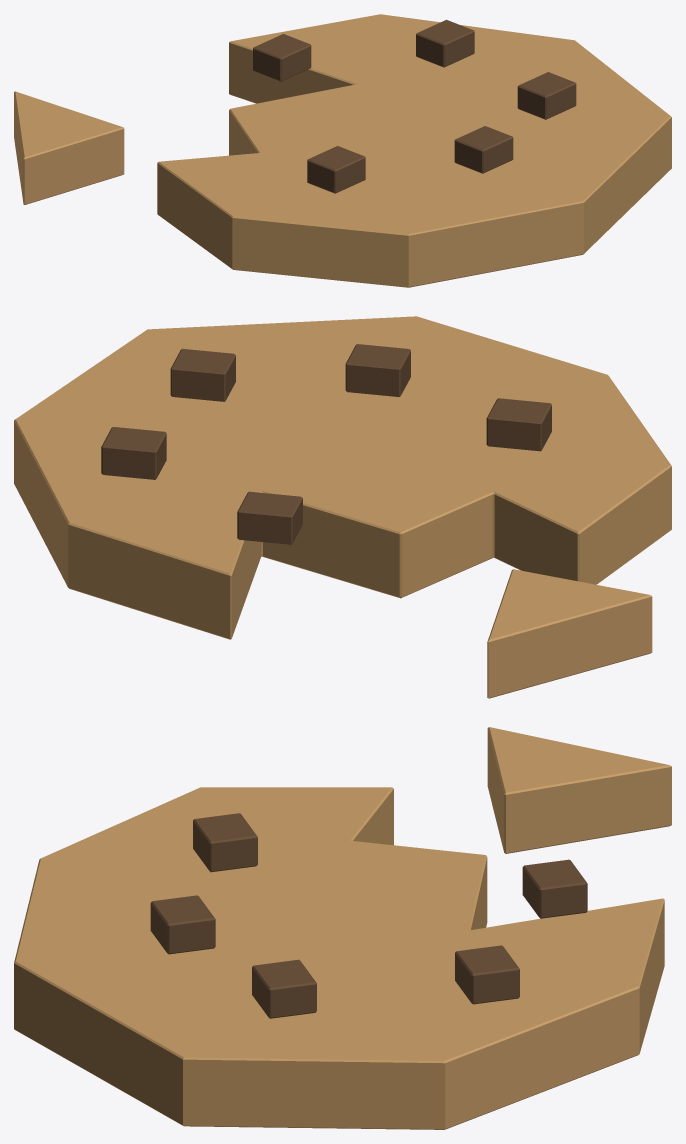
File: b16_broken_chocolate_chip_cookie.glb
3 renders of one model, top to bottom at view 1: azimuth 30°, elevation 25°; view 2: azimuth 150°, elevation 25°; view 3: azimuth 270°, elevation 25°, orthographic. The views are drawn at different scales.
Visible parts, largest first — view 1: b16_broken_chocolate_chip_cookie; view 2: b16_broken_chocolate_chip_cookie; view 3: b16_broken_chocolate_chip_cookie.
Boxes of the visible parts, <box> form: b16_broken_chocolate_chip_cookie: <box>14,14,671,287</box>; b16_broken_chocolate_chip_cookie: <box>14,316,671,698</box>; b16_broken_chocolate_chip_cookie: <box>14,727,671,1129</box>.
Bounding box in the file's own units: 0.0939 × 0.013 × 0.0778.
